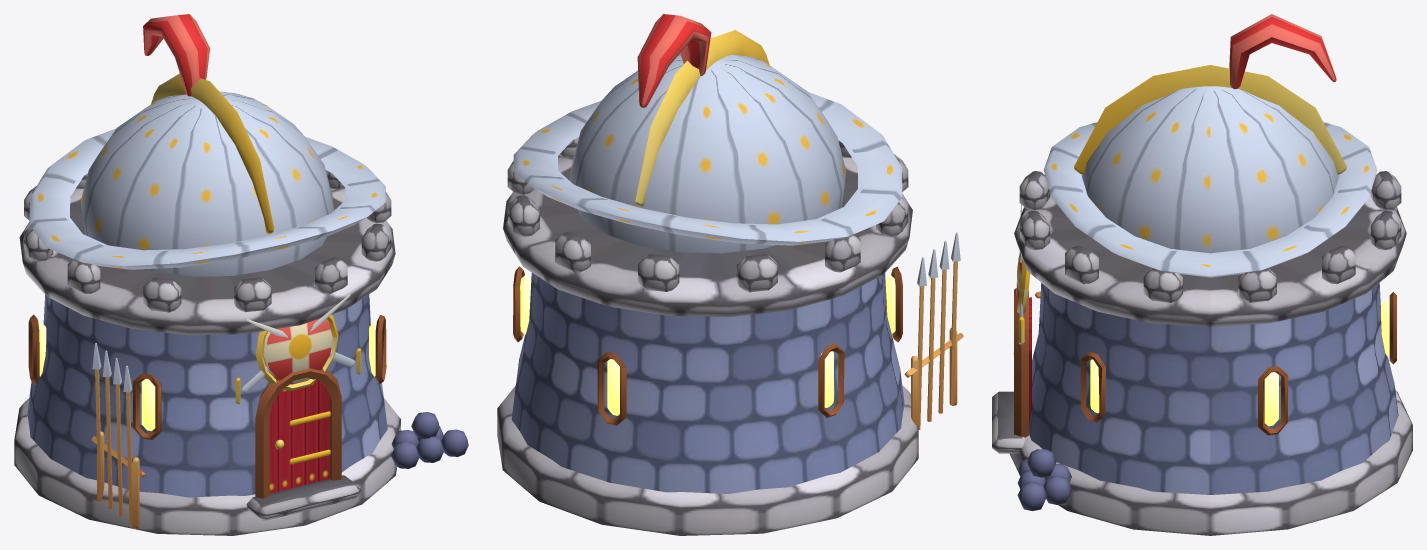
The model's file is armoury.glb.
The picture shows the model from 3 angles, left to right: view 1: azimuth 30°, elevation 25°; view 2: azimuth 150°, elevation 25°; view 3: azimuth 270°, elevation 25°; orthographic projection. The views are drawn at different scales.
Visible parts, largest first — view 1: armoury; view 2: armoury; view 3: armoury.
Boxes of the visible parts, <box> form: armoury: <box>14,14,468,535</box>; armoury: <box>497,14,963,535</box>; armoury: <box>992,14,1412,535</box>.
Size of the model in its own units: 6.71 by 7.81 by 6.86.
4 materials, 4 textured.
